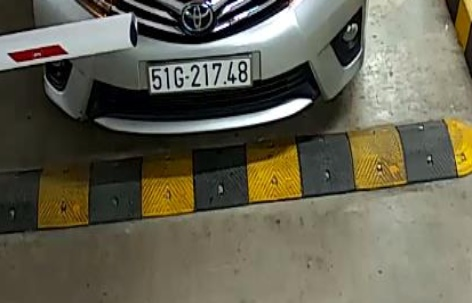plate: (138, 51, 255, 93)
